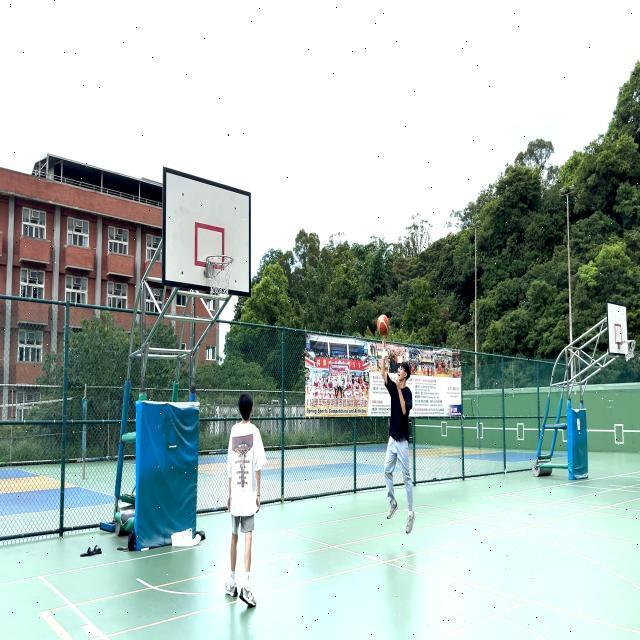ball: (377, 312, 389, 336)
